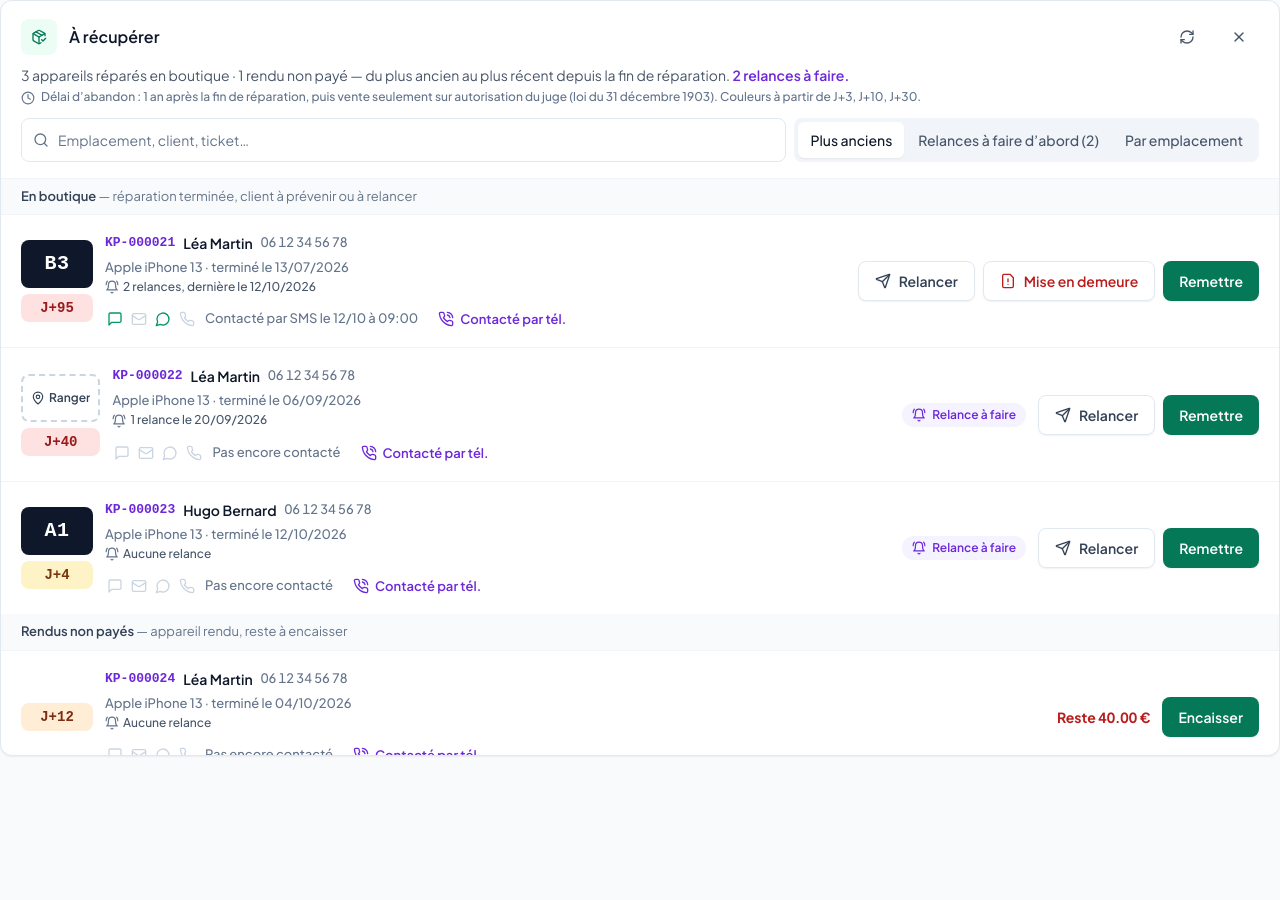
Test: EtagereARecuperer : relancer en deux clics › SMS envoyé par le serveur : version courte, déjà noté par le serveur (pas de double trace)
Check: the link "KP-000021" is shown, box [105,235,175,250]
Click the button with aria-label "Relancer KP-000022" at (1097, 415), box [1038,395,1155,435]
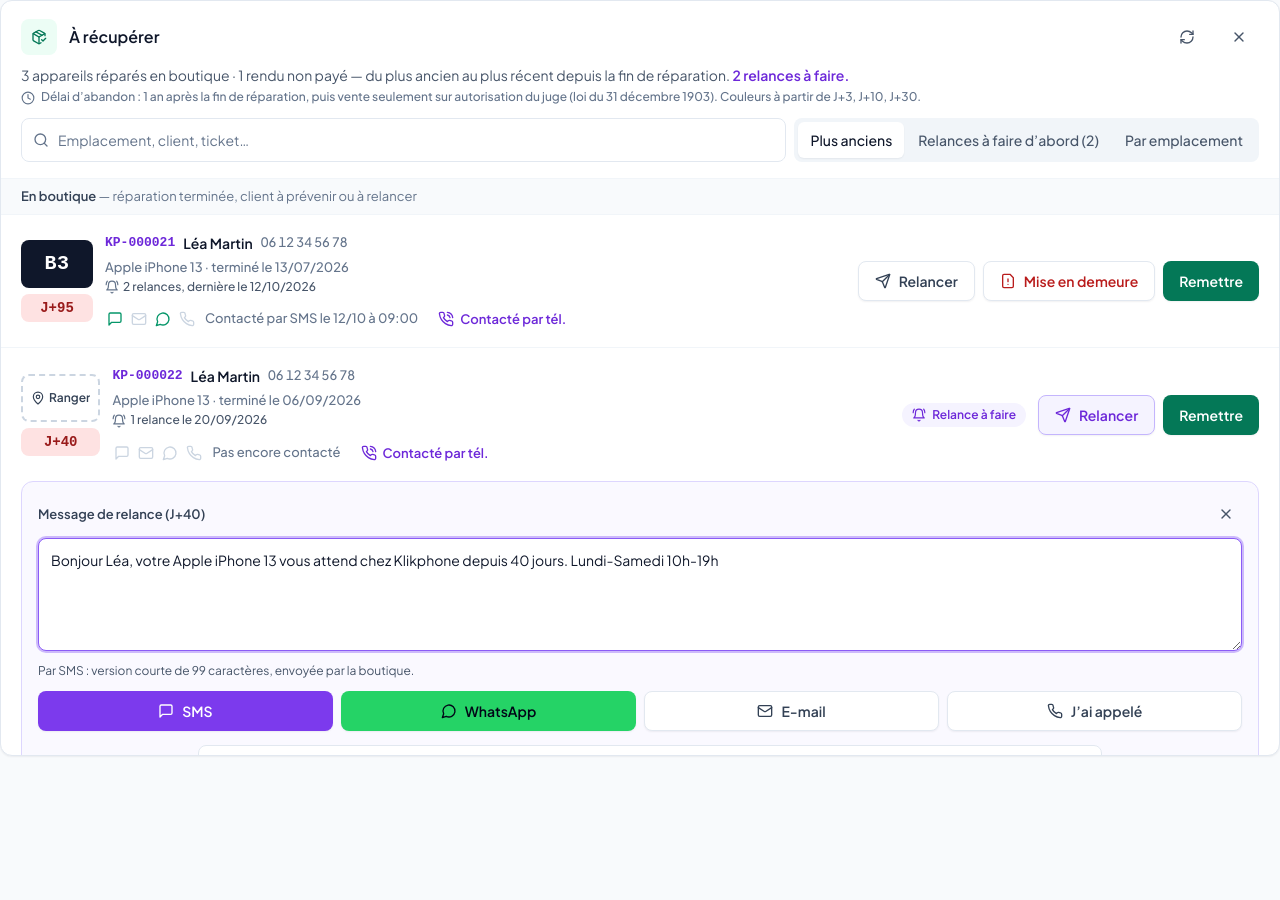
Click the button "SMS" at (186, 711), box [38,691,333,731]
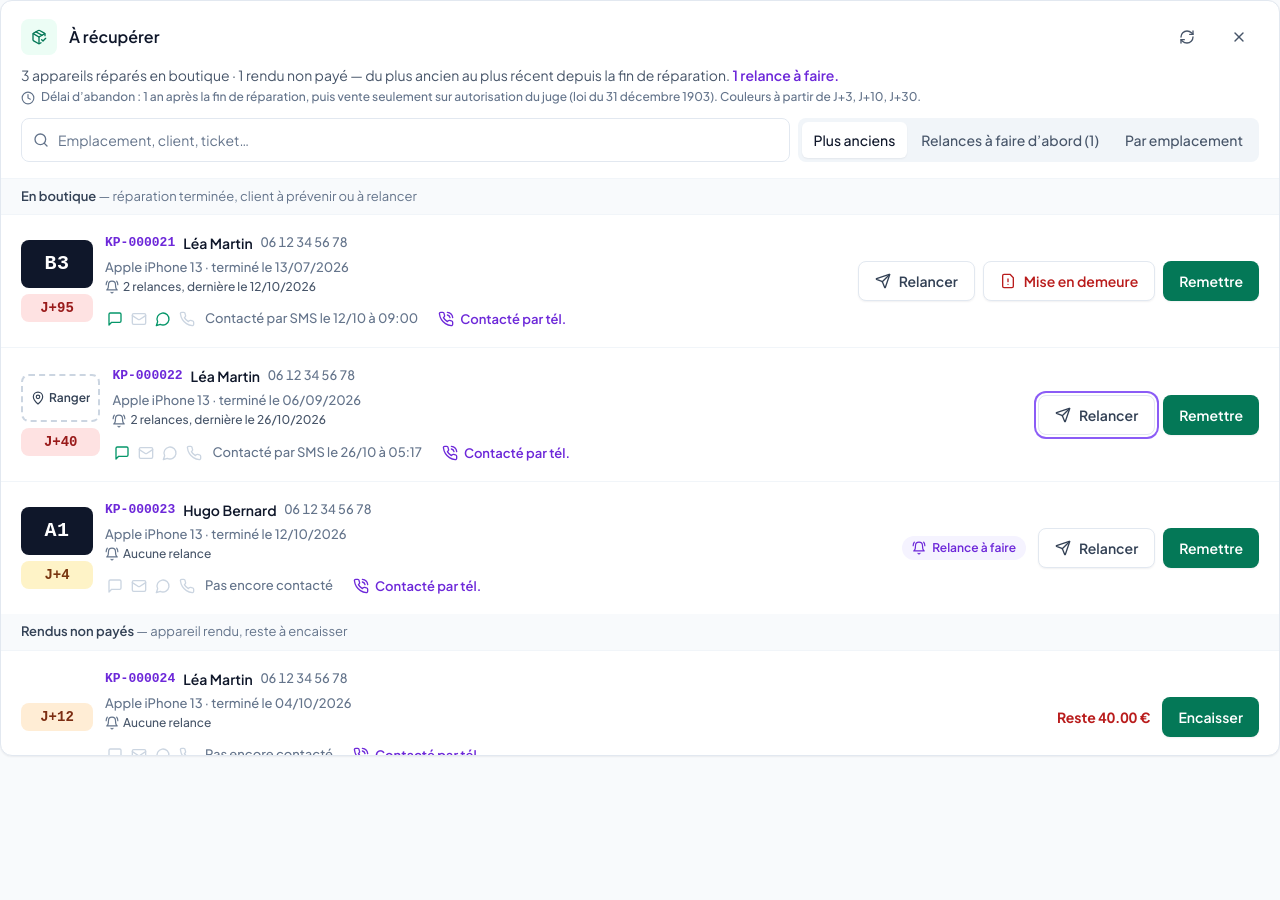
Check: the text "2 relances, dernière le 26/10/2026" is shown, box [130,412,326,429]
